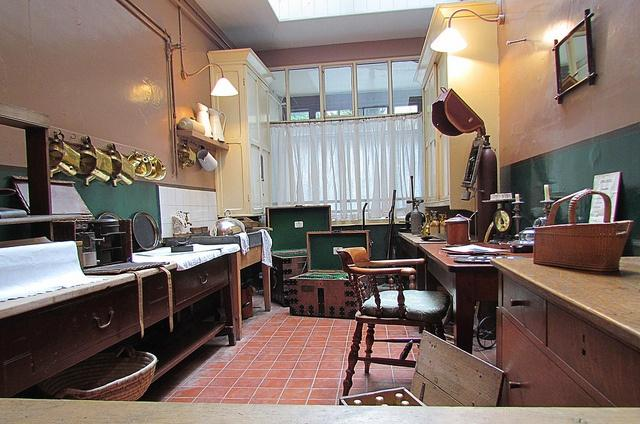Lemari: (207, 46, 273, 216)
